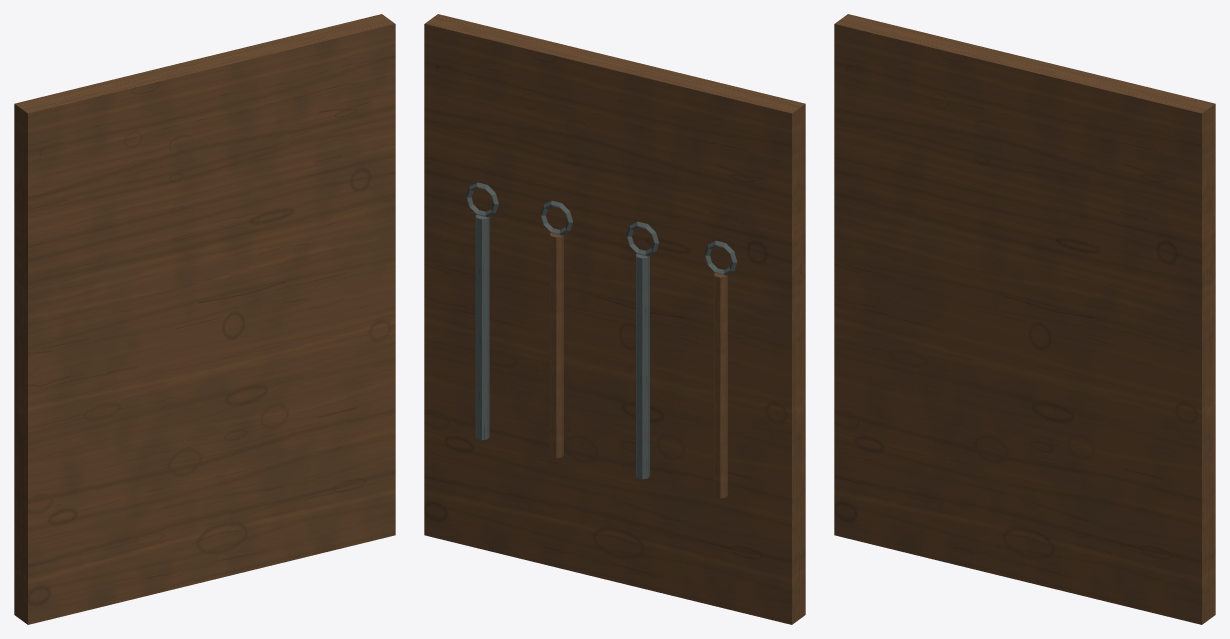
Rendered from ax-craft-002_workbench_tool_board__stocked.obj.
3 renders of one model, left to right at view 1: azimuth 30°, elevation 25°; view 2: azimuth 150°, elevation 25°; view 3: azimuth 330°, elevation 25°, orthographic.
Parts seen in each view (by area): view 1: ax-craft-002_workbench_tool_board__stocked; view 2: ax-craft-002_workbench_tool_board__stocked; view 3: ax-craft-002_workbench_tool_board__stocked.
Part boxes in pixels (box(x1,y1,x2,y2)): ax-craft-002_workbench_tool_board__stocked: box(14, 14, 395, 624); ax-craft-002_workbench_tool_board__stocked: box(424, 14, 805, 624); ax-craft-002_workbench_tool_board__stocked: box(834, 14, 1215, 624).
Bounding box in the file's own units: 0.94 × 1.25 × 0.0944.
Materials: 2 (2 with a texture image).
